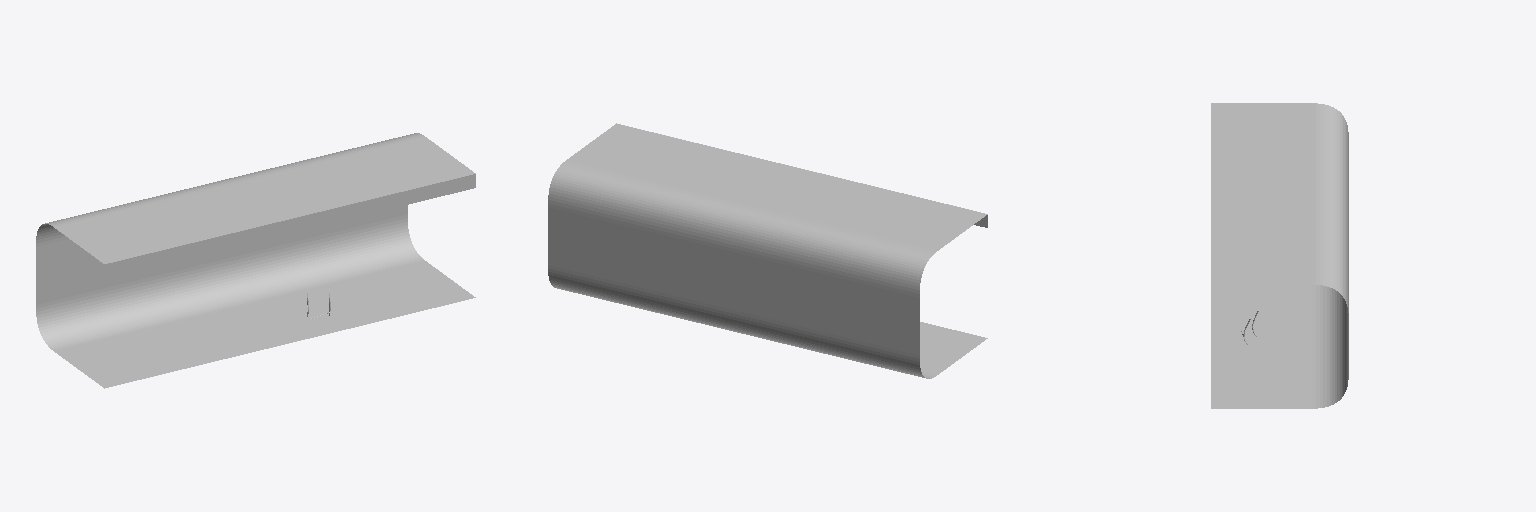
Rendered from woodchair.obj.
3 views of the same model, side by side, from view 1: azimuth 30°, elevation 25°; view 2: azimuth 150°, elevation 25°; view 3: azimuth 270°, elevation 25° (orthographic).
Visible parts, largest first — view 1: Line002; view 2: Line002; view 3: Line002.
Part boxes in pixels (x1,y1,x2,y2): Line002: (36,133,475,388); Line002: (548,123,987,378); Line002: (1211,103,1348,408).
Bounding box in the file's own units: 12930 × 4123 × 4140.